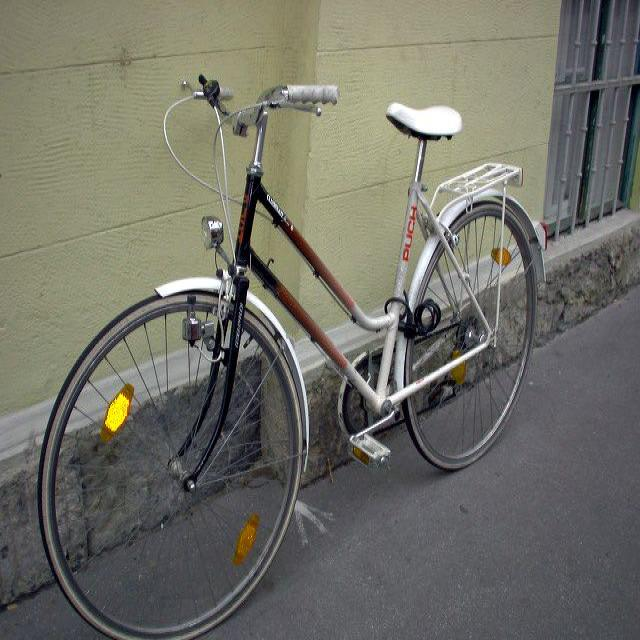bicycle: (36, 73, 546, 639)
